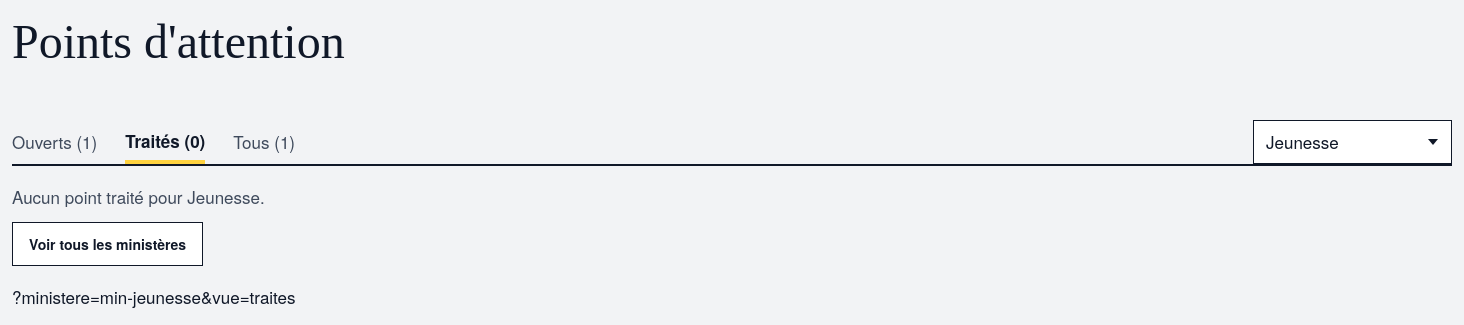
it: états vides (T36) › un ministère choisi sans point dans la vue : le nom du ministère et « Voir tous les ministères »
The width and height of the screenshot is (1464, 325).
Check: the text "Aucun point traité pour Jeunesse." is shown, box [12,184,265,210]
Check: the link "Ouverts (1)" is shown, box [12,129,97,154]
Click the button "Voir tous les ministères" at (108, 244), box [12,222,203,266]
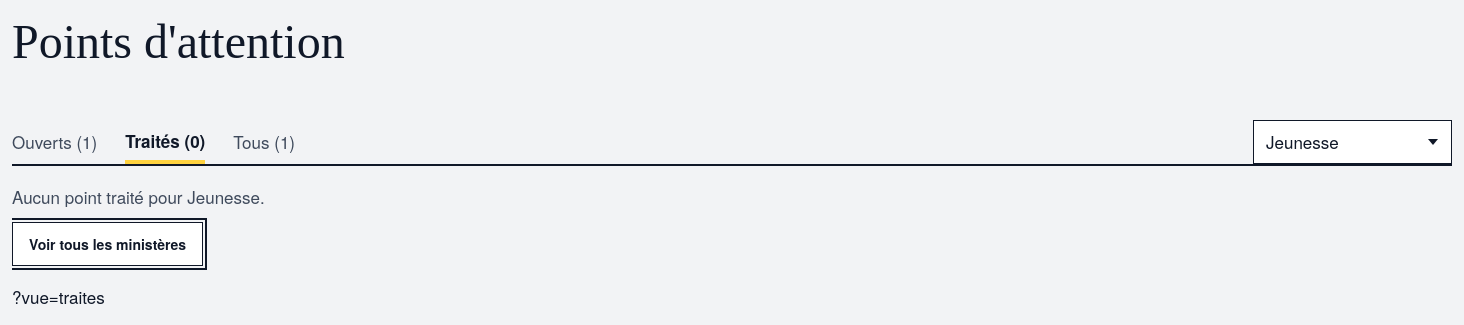
Check: the text with test id "adresse" reads "?vue=traites", box [12,284,105,308]
Check: the text with test id "adresse" no longer shows "ministere", box [12,284,105,308]
